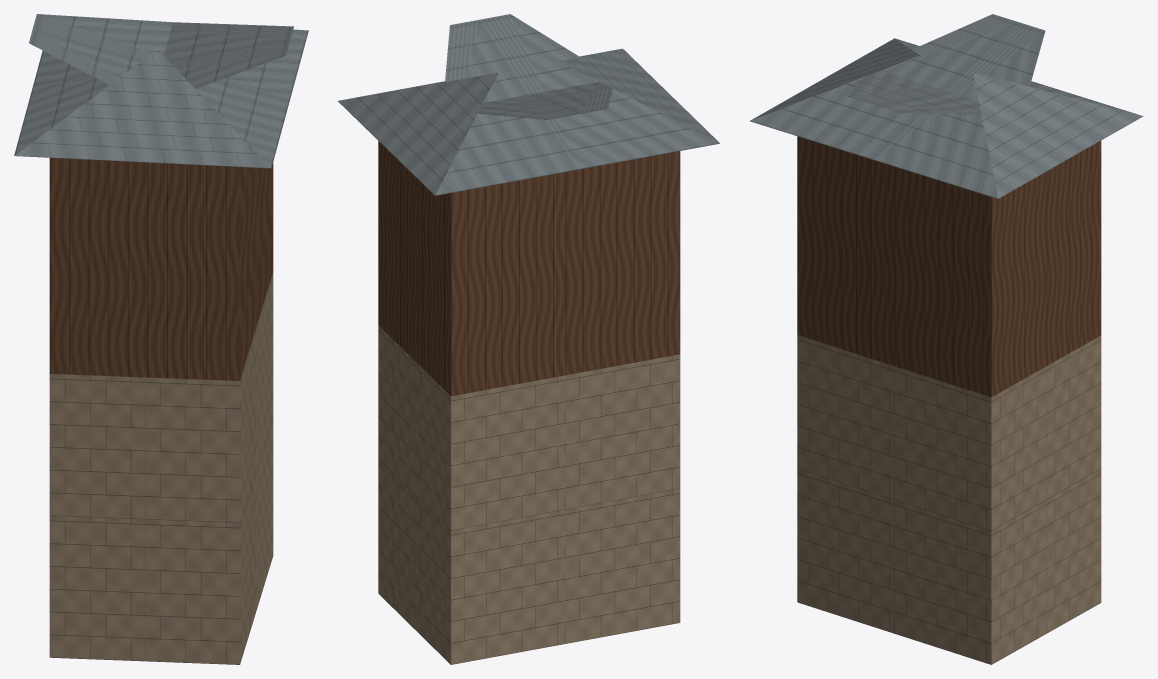
Rendered from bld_c8_19_422.gltf.
3 views of the same model, side by side, from view 1: azimuth 30°, elevation 25°; view 2: azimuth 150°, elevation 25°; view 3: azimuth 270°, elevation 25° (orthographic). The views are drawn at different scales.
Parts seen in each view (by area): view 1: bld_c8_19_422; view 2: bld_c8_19_422; view 3: bld_c8_19_422.
Part boxes in pixels (x1,y1,x2,y2): bld_c8_19_422: (14,14,308,664); bld_c8_19_422: (338,14,719,664); bld_c8_19_422: (749,14,1143,664).
Bounding box in the file's own units: 6.27 × 9.8 × 6.5.
Materials: 3 (3 with a texture image).
